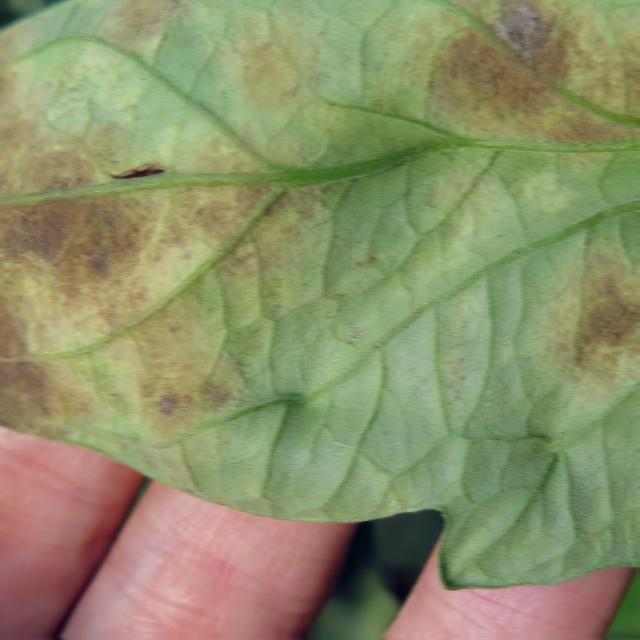Tomato mold leaf: (0, 0, 640, 585)
